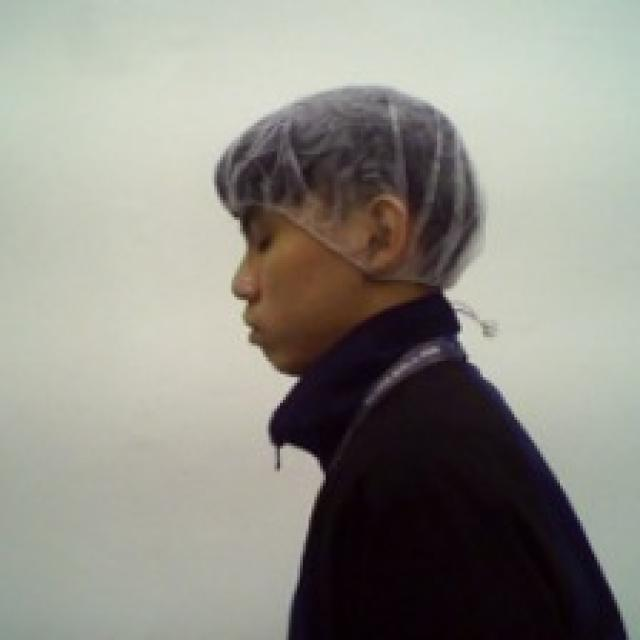gloves: (216, 75, 492, 294)
no_hairnet: (220, 188, 410, 384)
